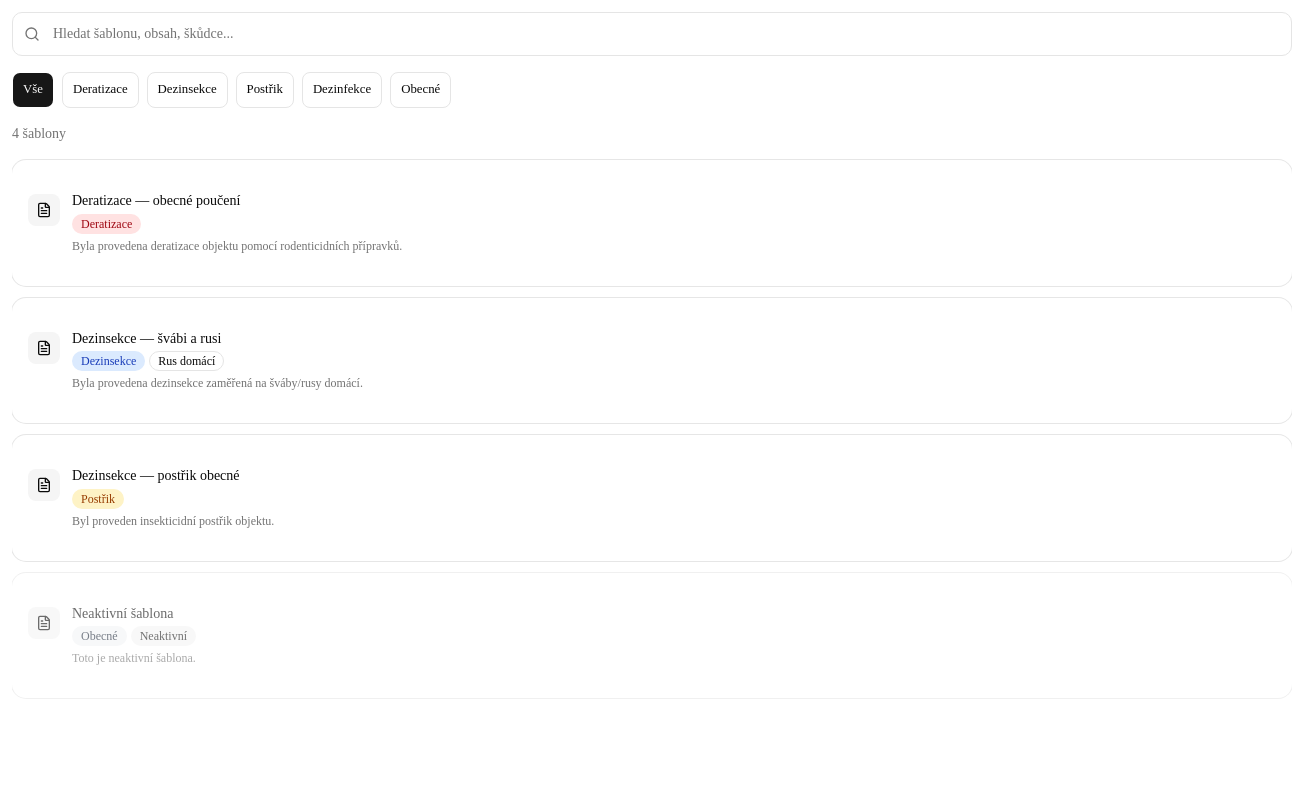
SablonyPouceniList › filters by search query (obsah)
Type "postřik" into the field with placeholder "Hledat šablonu, obsah, škůdce..." at coordinates (652, 34), box [12,12,1292,56]
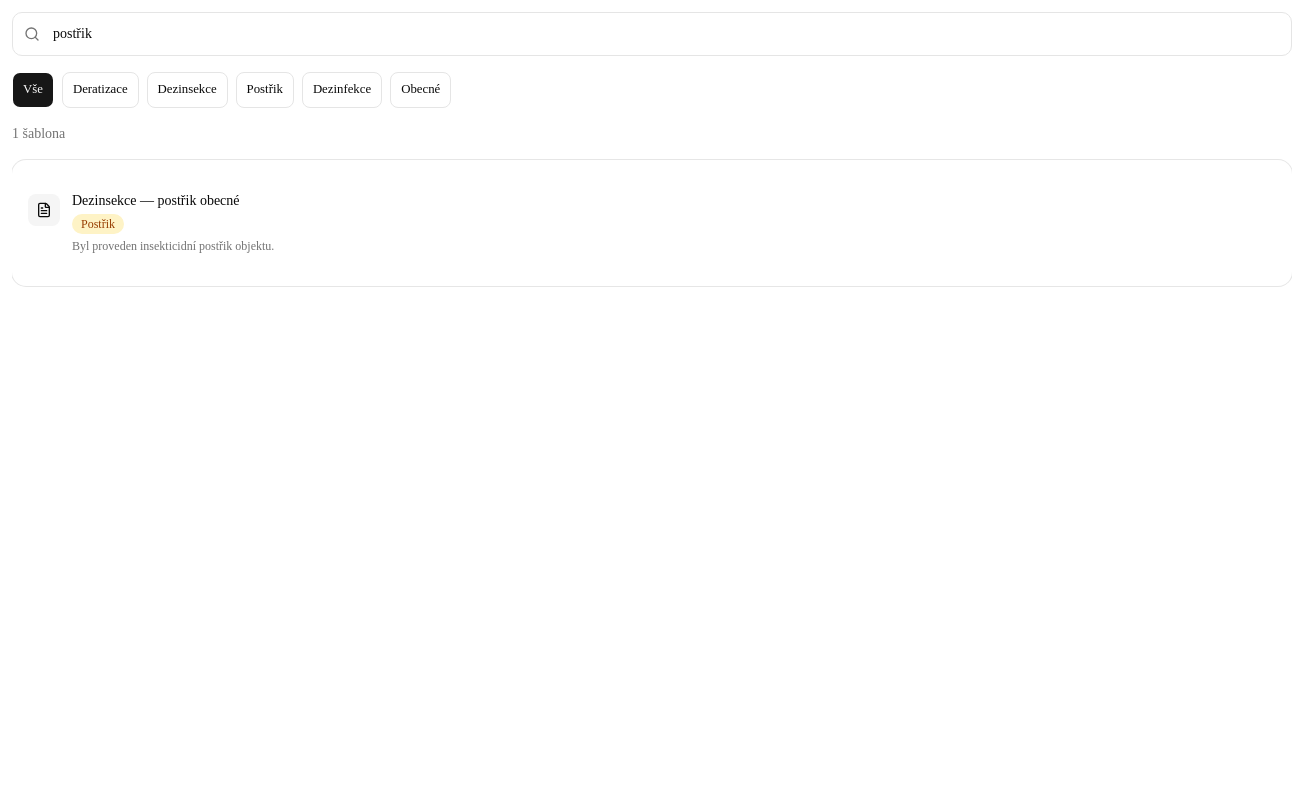
Expected: the text "Dezinsekce — postřik obecné" is shown, [72,193,240,208]
Expected: the text "Deratizace — obecné poučení" is gone
